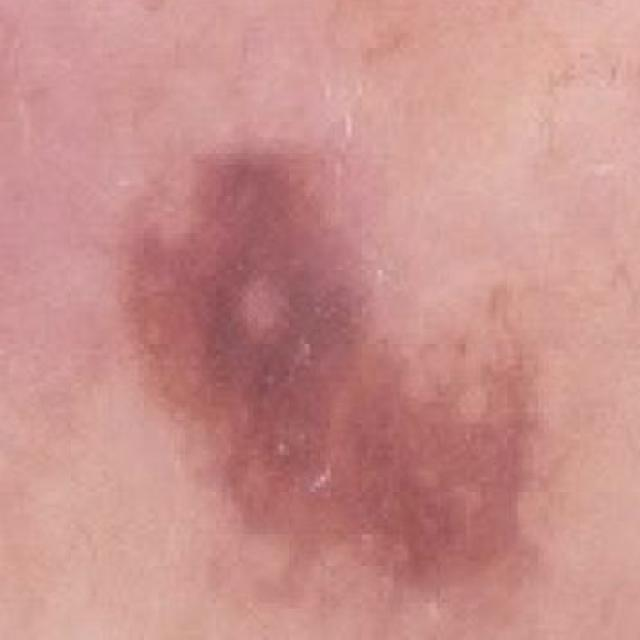BKL: (64, 68, 591, 640)
